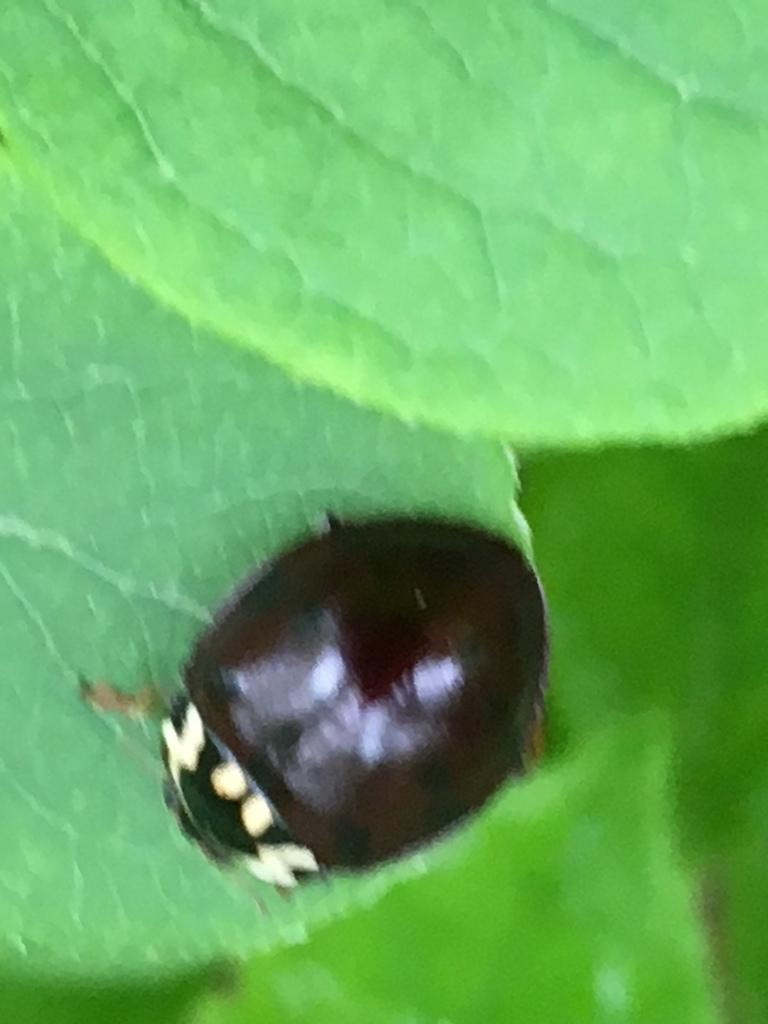ladybug: (76, 504, 561, 899)
